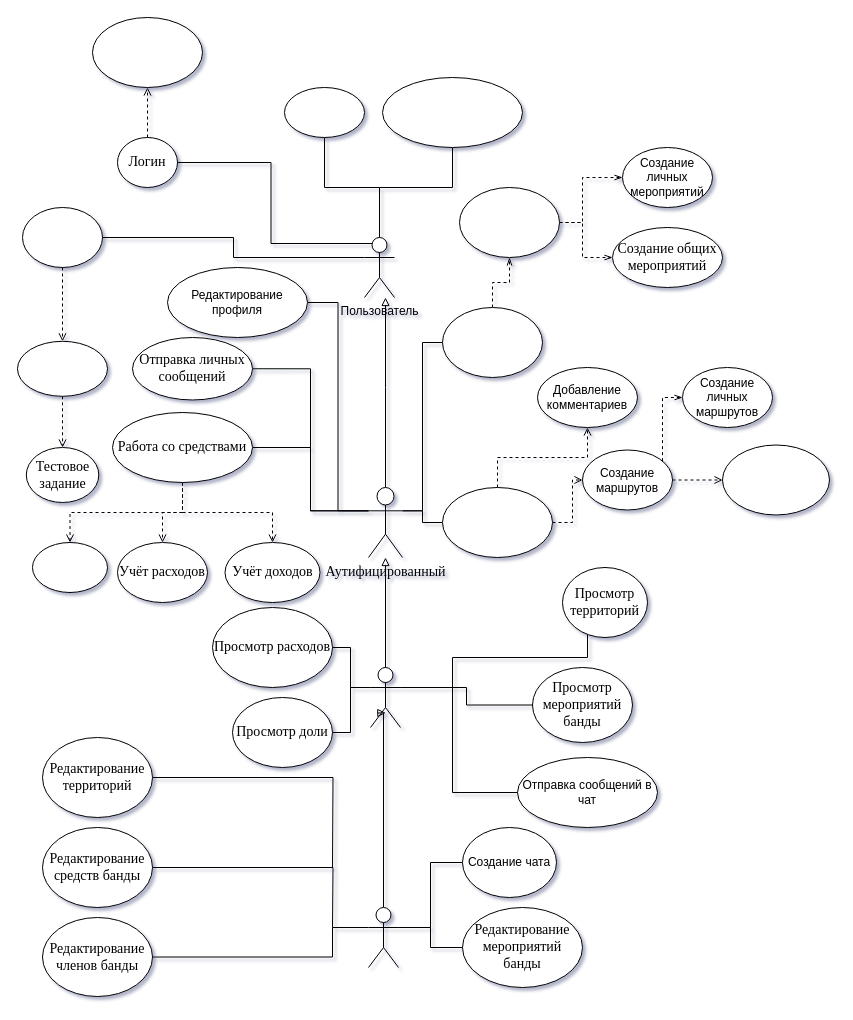
This 853x1020 diagram has some shape labels left out. Here are the shapes that lost their labels. From the top down, the centre of each, then its label:
At [147,52]: "Выход из банды".
At [324,112]: "Запуск приложения".
At [452,112]: "Просмотр общедоступных маршрутов".
At [62,237]: "Регистрация".
At [509,222]: "Создание мероприятий".
At [492,342]: "Работа с мероприятиями".
At [62,368]: "Вход в банду".
At [776,479]: "Создание общих маршрутов".
At [497,522]: "Работа с маршрутами".
At [70,567]: "Учёт доли".
At [385,697]: "Входящий в группу".
At [383,937]: "Админ".
